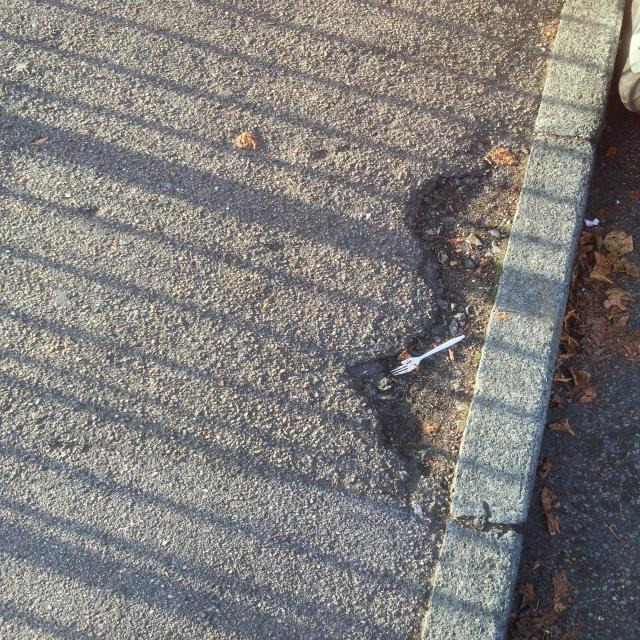Plastic utensils: (390, 335, 465, 375)
Unlabeled litter: (584, 218, 599, 227)
